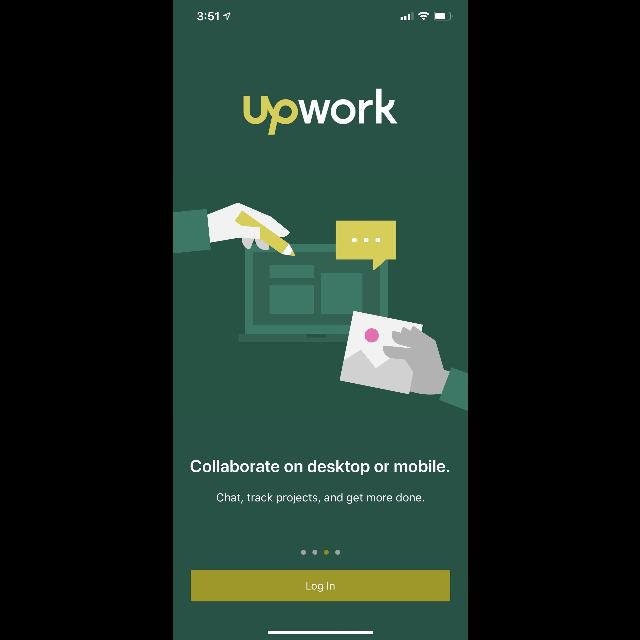image: (172, 202, 468, 412), (243, 89, 397, 135)
pageindicator: (300, 550, 340, 554)
text: (190, 460, 448, 474), (216, 492, 424, 503)
textbutton: (190, 570, 450, 602)
uppertaskbar: (196, 12, 452, 21)
